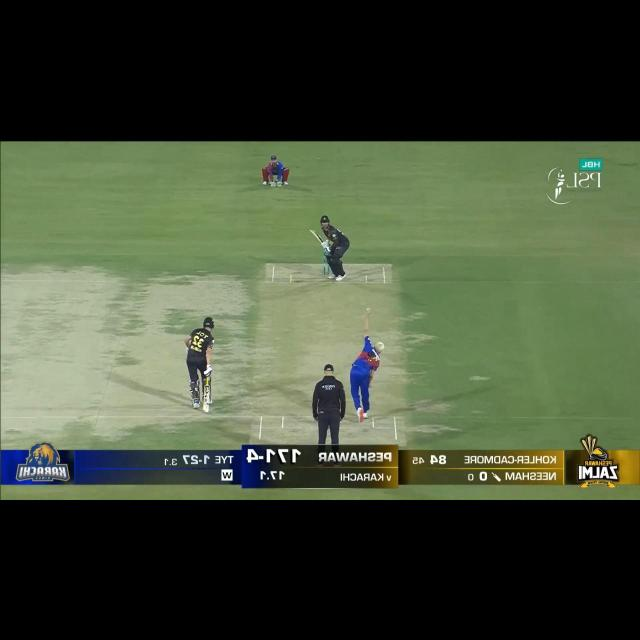bat: (310, 229, 324, 243), (203, 386, 210, 413)
toe: (203, 408, 212, 413), (310, 229, 316, 234)
